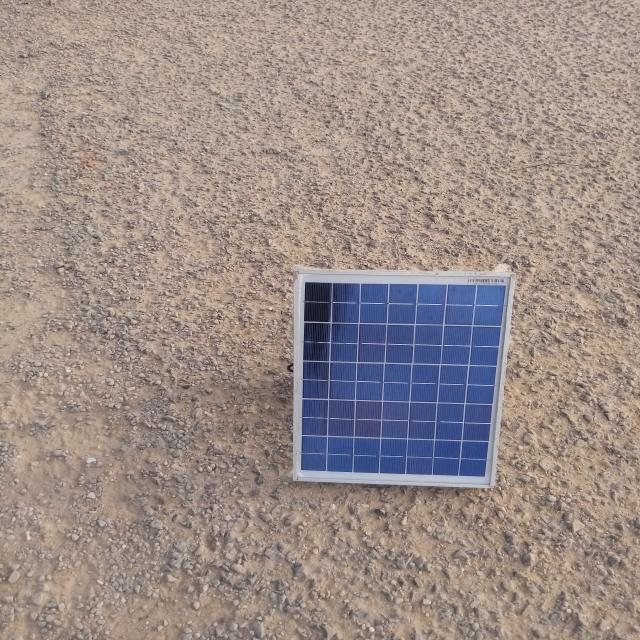no faulty: (297, 268, 517, 486)
